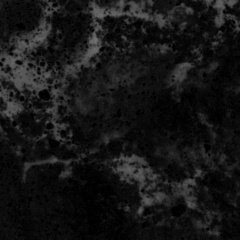Vegetation: (140, 178, 198, 205), (1, 45, 31, 89), (107, 1, 157, 20), (87, 3, 102, 60), (33, 70, 71, 92), (115, 156, 148, 181), (212, 1, 236, 25), (51, 96, 64, 139), (2, 94, 23, 114), (18, 32, 46, 47), (41, 3, 53, 32), (174, 64, 187, 88)
